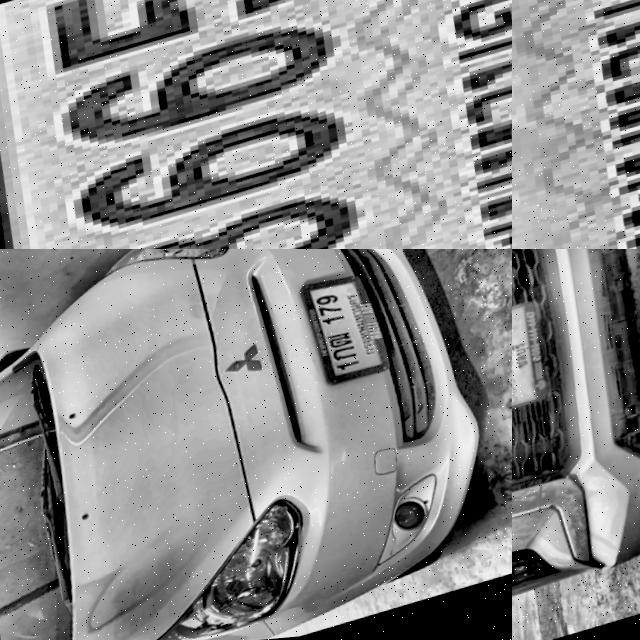license-plate: (0, 0, 512, 249), (512, 0, 640, 249), (292, 260, 414, 402), (512, 304, 560, 427)
